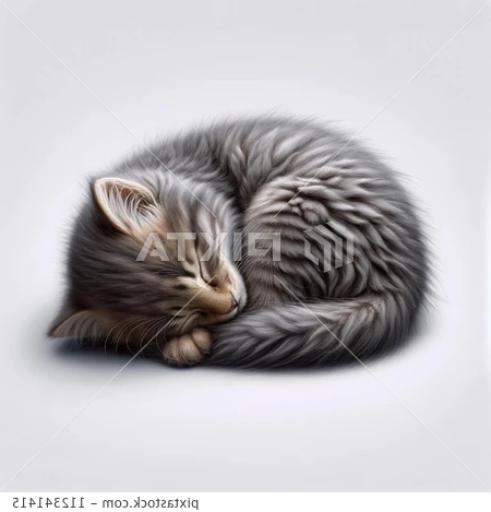cat_sleeping: (50, 116, 429, 367)
